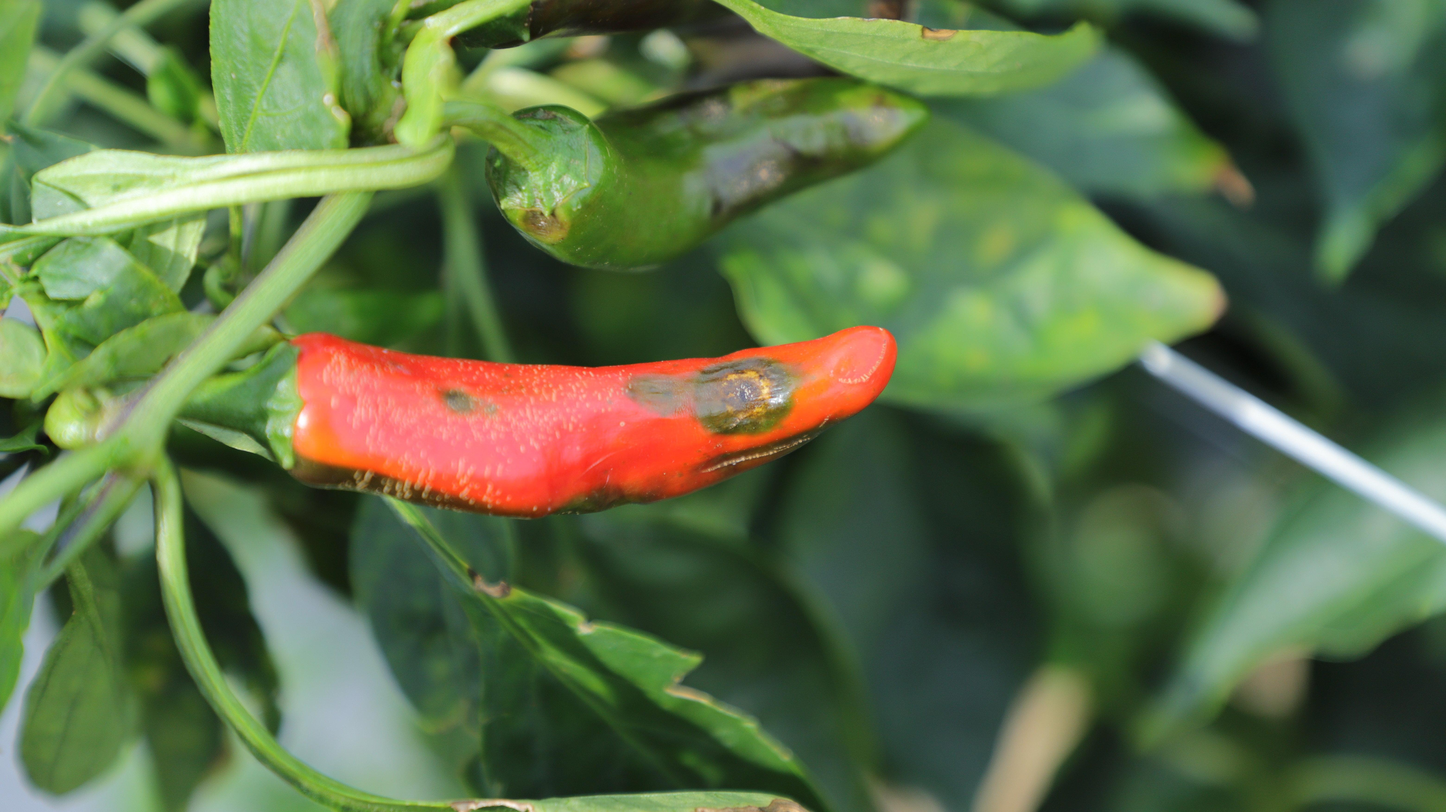Busuk Buah Antraknosa: (264, 320, 900, 521), (491, 73, 942, 279)
